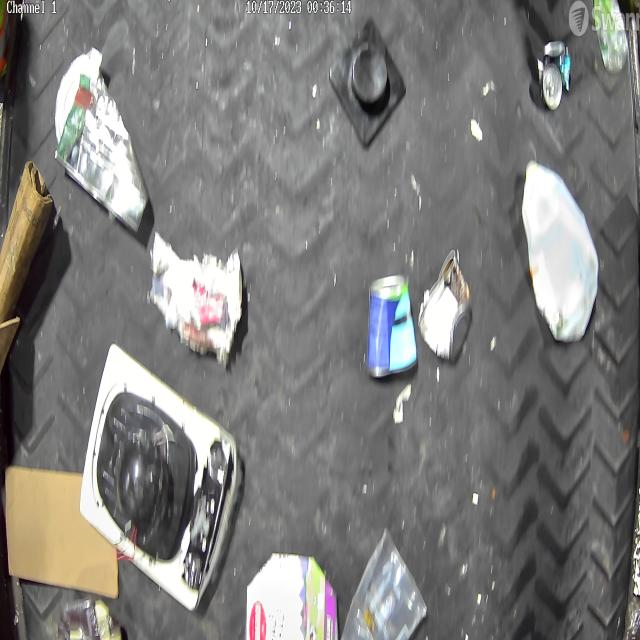can: (418, 248, 472, 362), (364, 272, 416, 379), (538, 36, 572, 112)
milk_jug: (521, 159, 599, 343)
plastic_bottle: (594, 0, 630, 74)
